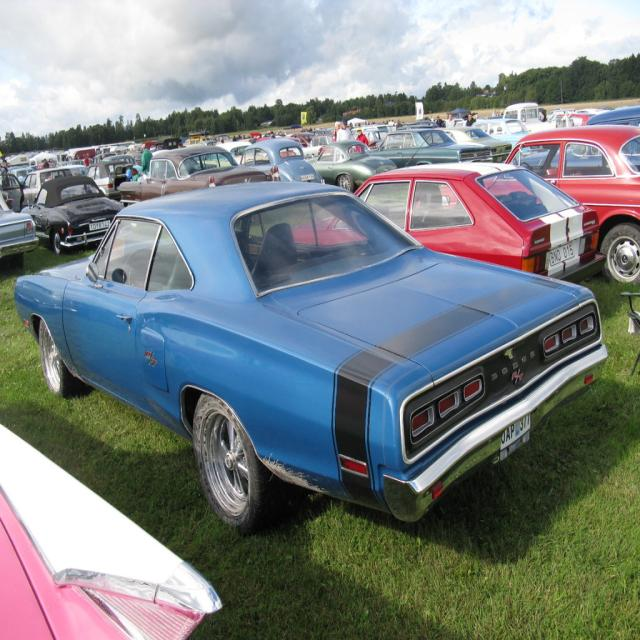car: (17, 177, 607, 532)
